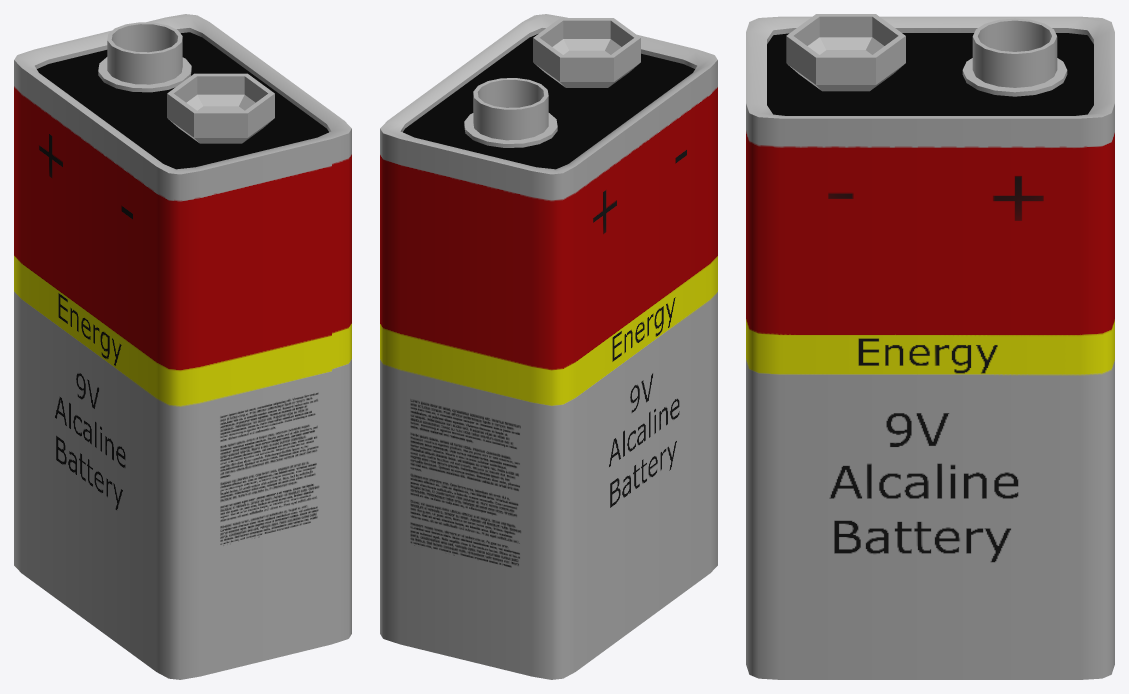
Rendered from uploads_files_5618347_9vBattery.fbx.
The picture shows the model from 3 angles, left to right: view 1: azimuth 30°, elevation 25°; view 2: azimuth 150°, elevation 25°; view 3: azimuth 270°, elevation 25°; orthographic projection. The views are drawn at different scales.
Visible parts, largest first — view 1: Battery9V; view 2: Battery9V; view 3: Battery9V.
Part boxes in pixels (left/top/right/bottom): Battery9V: left=14, top=14, right=351, bottom=679; Battery9V: left=380, top=14, right=717, bottom=679; Battery9V: left=746, top=14, right=1114, bottom=679.
Size of the model in its own units: 1.71 by 4.65 by 2.62.
Materials: 1 (1 with a texture image).
